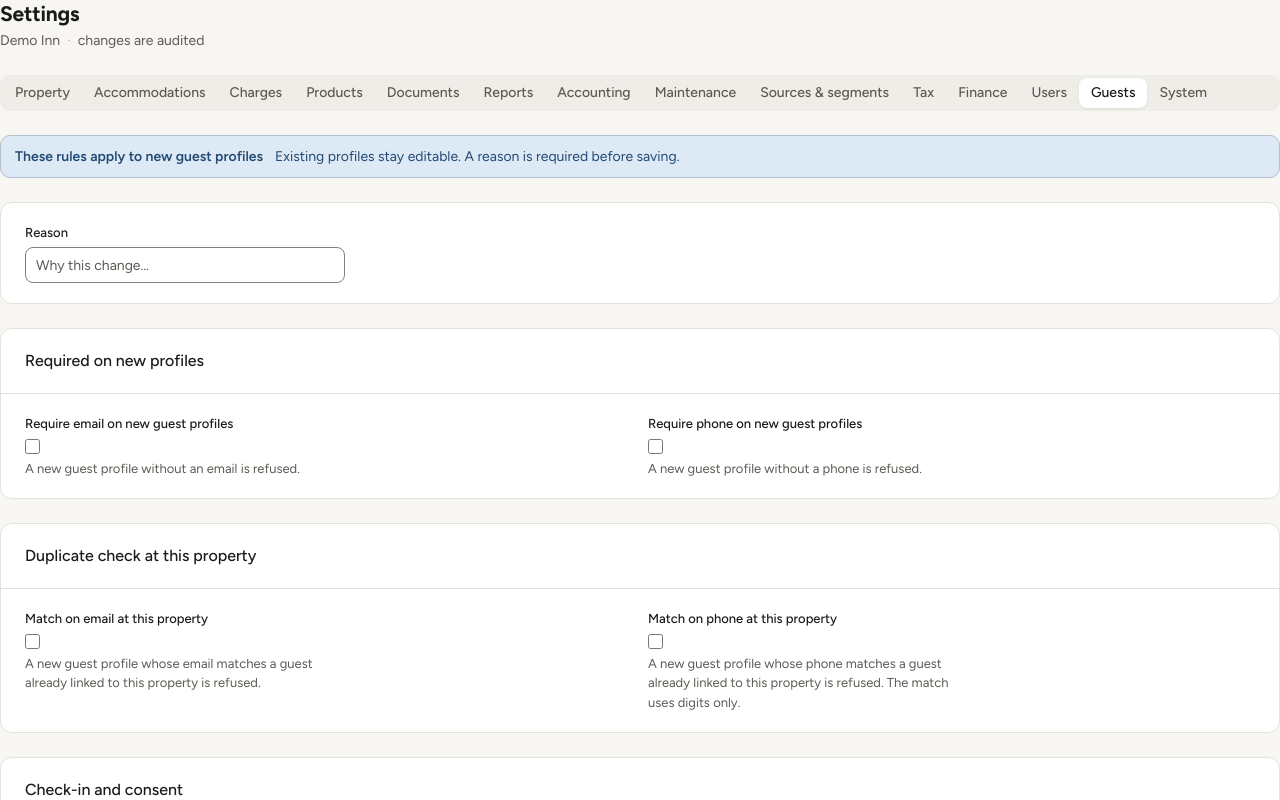
Test: Settings → Guests › Save sends the full object with a reason and invalidates the org query
The image size is (1280, 800).
Expected: the heading "Duplicate check at this property" does not show "Require an identity document at check-in"
Step 1. Click the checkbox labelled "Require email on new guest profiles" → (32, 446), box [25,439,40,454]
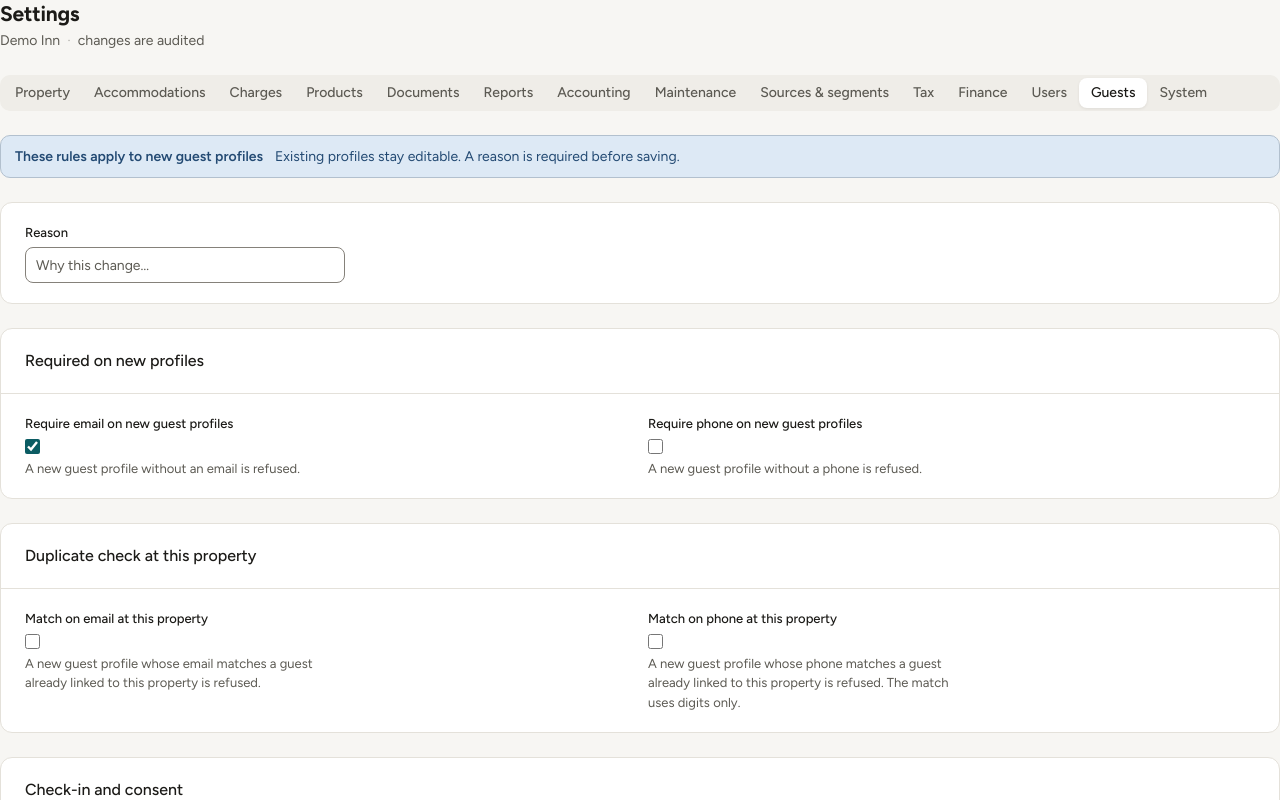
Step 2. Click the checkbox labelled "Match on phone at this property" → (656, 642), box [648,634,663,649]
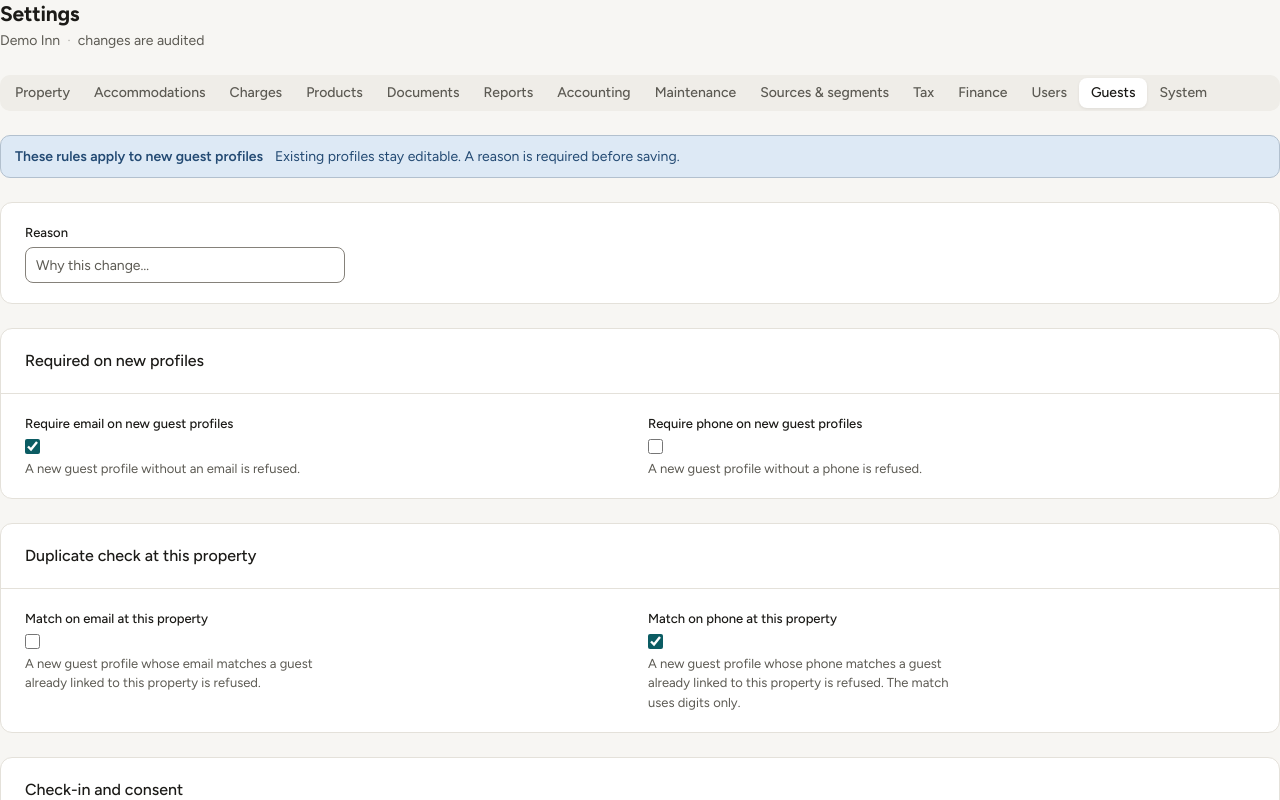
Step 3. Type "Desk asked for email" into the field with placeholder "Why this change…" → (185, 266), box [25,248,345,284]
(page scrolled)
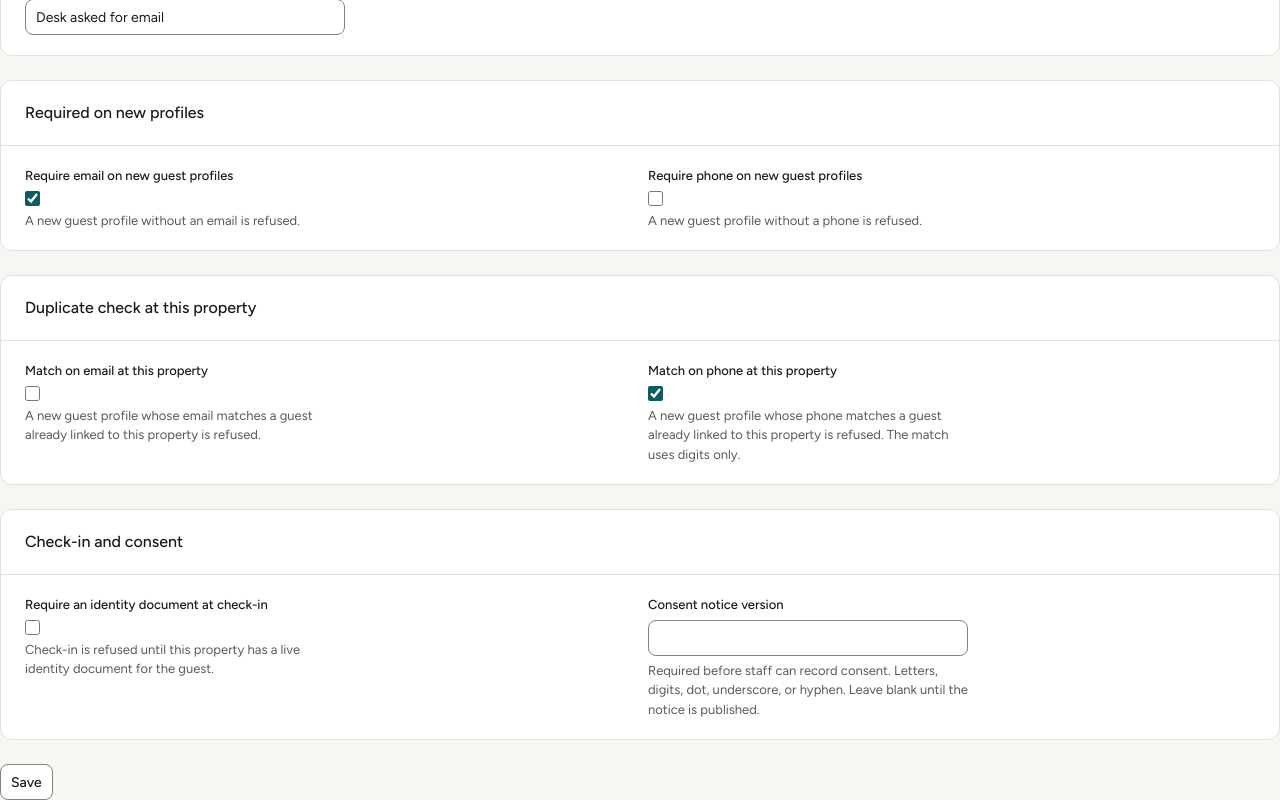
Step 4. Click the button with test id "guest-settings-save" → (26, 782), box [0,764,53,799]
(page scrolled)
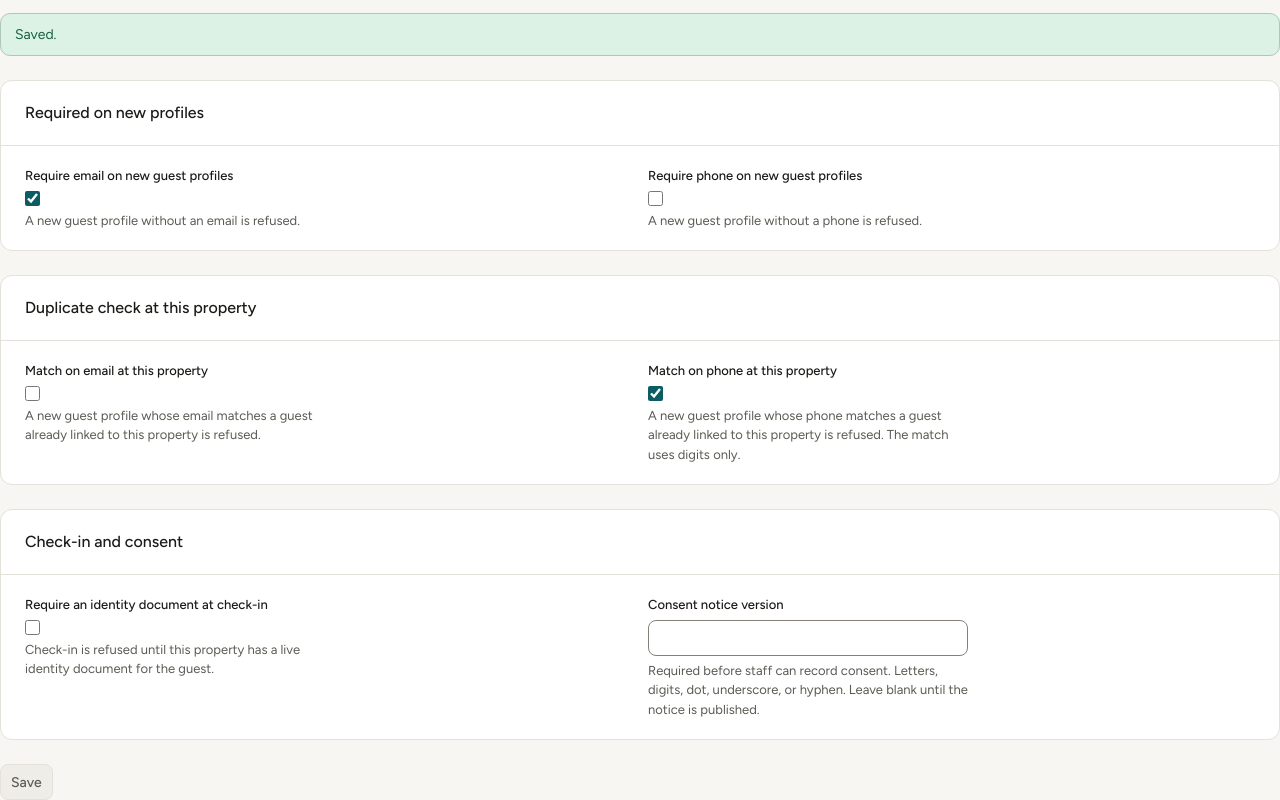
Now the text "Saved." is shown, box [0,14,1279,56]
Now the button with test id "guest-settings-save" is disabled, box [0,764,53,799]
